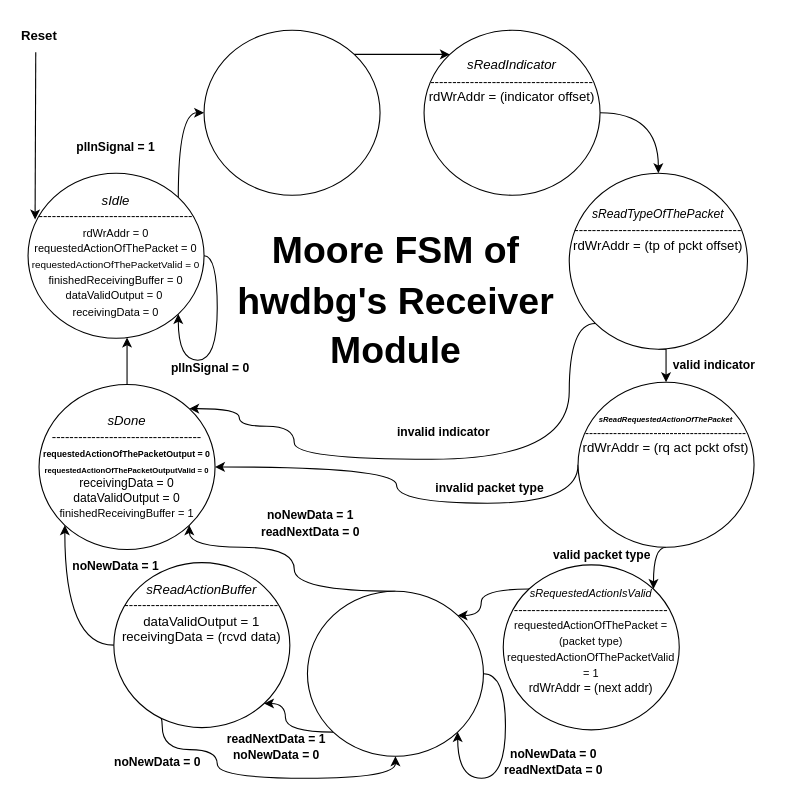
Image size: 810x798. Some labels were removed from this diagram. The shapes that lost their labels are listed below. From the top down, each one's box as (x1, y1, x2, y2) in pixels, then its label:
(203, 29, 380, 195): sReadChecksum ------------------------------------- rdWrAddr = (chksm offset)
(306, 590, 483, 756): sWaitToReadActionBuffer ----------------------------------- dataValidOutput = 0
